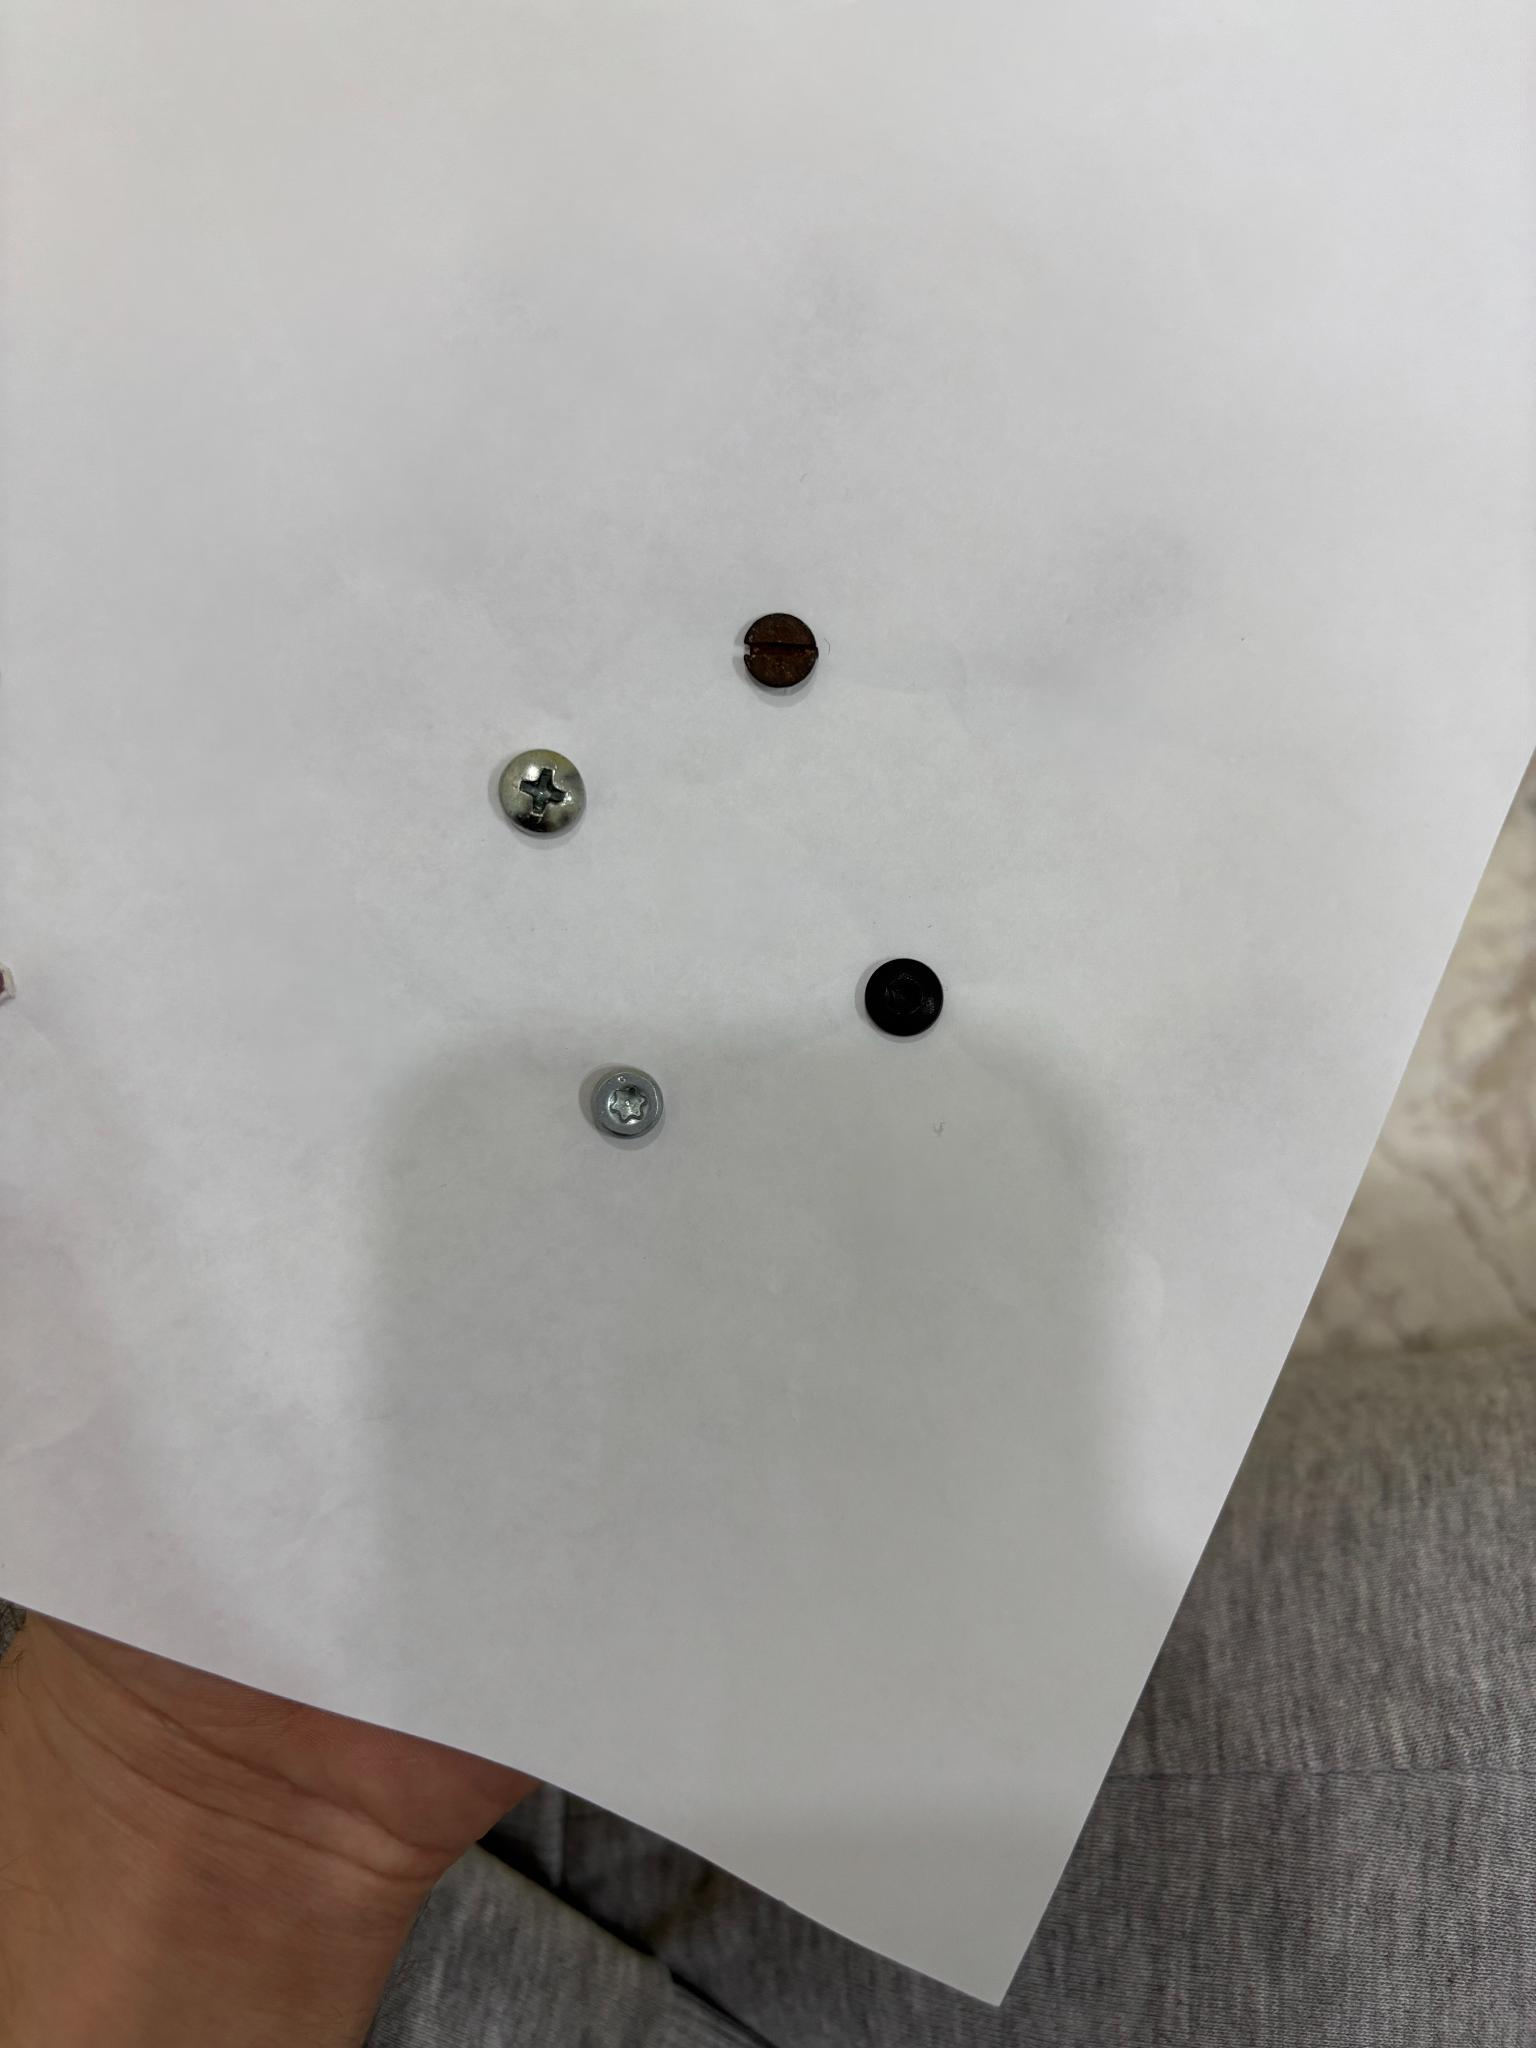H: (863, 958, 944, 1037)
PH: (499, 748, 586, 834)
SL: (744, 613, 818, 689)
T: (591, 1069, 663, 1138)
